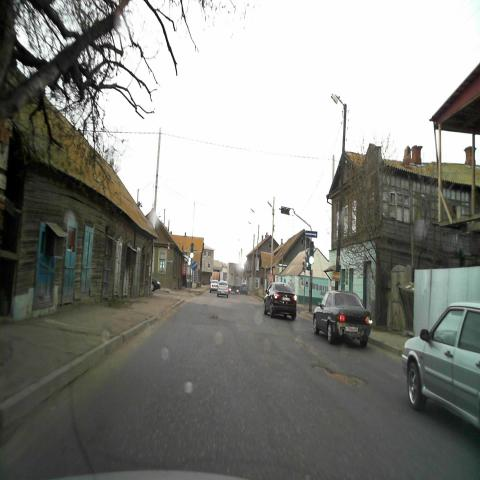5_7_1: (304, 230, 318, 239)
